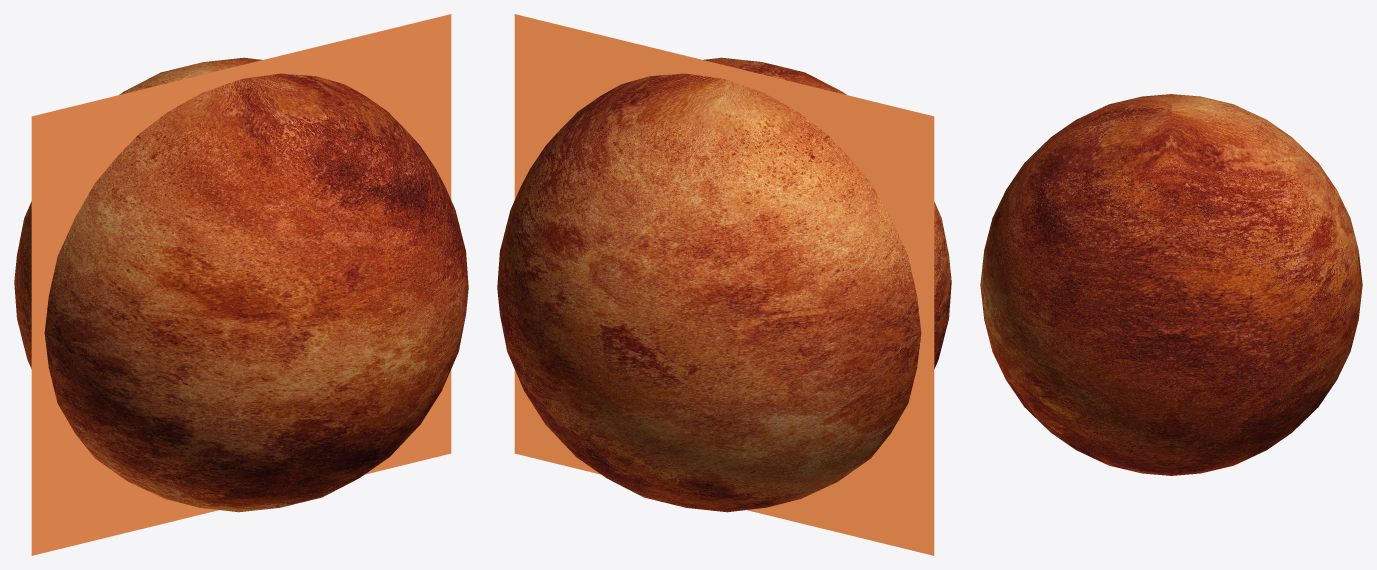
Rendered from planet_d.fbx.
3 views of the same model, side by side, from view 1: azimuth 30°, elevation 25°; view 2: azimuth 150°, elevation 25°; view 3: azimuth 270°, elevation 25° (orthographic). The views are drawn at different scales.
Parts seen in each view (by area): view 1: planet_d, planet_d_glow; view 2: planet_d, planet_d_glow; view 3: planet_d.
Part boxes in pixels (x1,y1,x2,y2): planet_d: [14, 57, 468, 512]; planet_d_glow: [31, 14, 451, 555]; planet_d: [497, 57, 951, 512]; planet_d_glow: [514, 14, 934, 555]; planet_d: [980, 94, 1362, 475].
Size of the model in its own units: 640 by 640 by 600.
2 materials, 1 textured.
